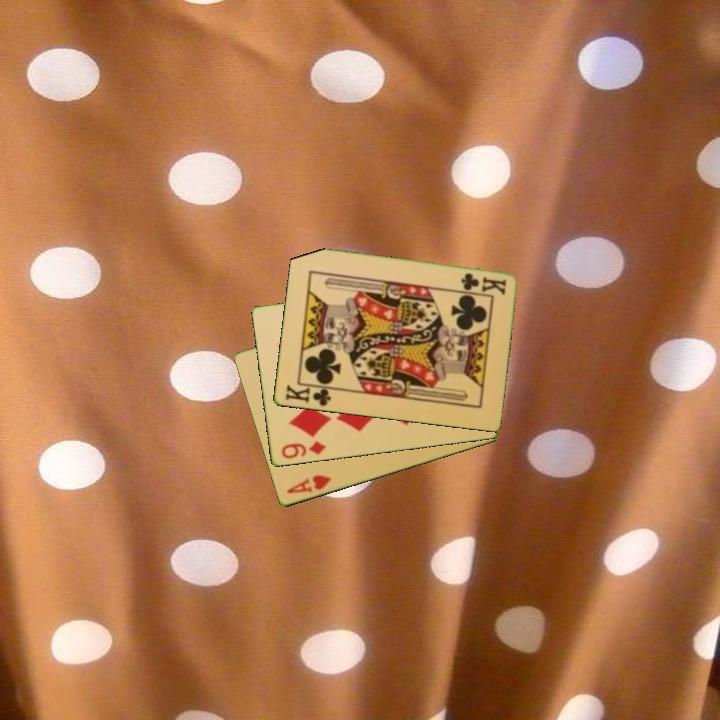9d: (277, 438, 328, 462)
Ah: (283, 472, 334, 497)
Kc: (282, 381, 337, 409), (457, 270, 509, 297)
